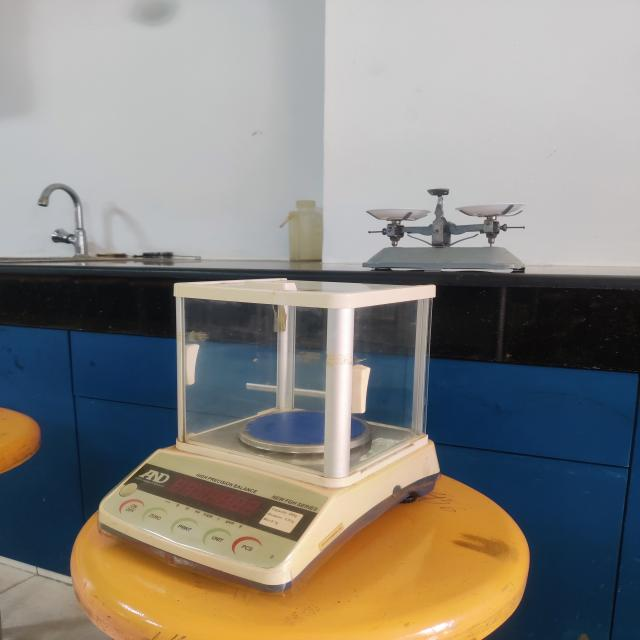Mechanical_Balance_Scale: (364, 169, 540, 278)
Precision_Weight_Scale: (61, 276, 465, 620)
